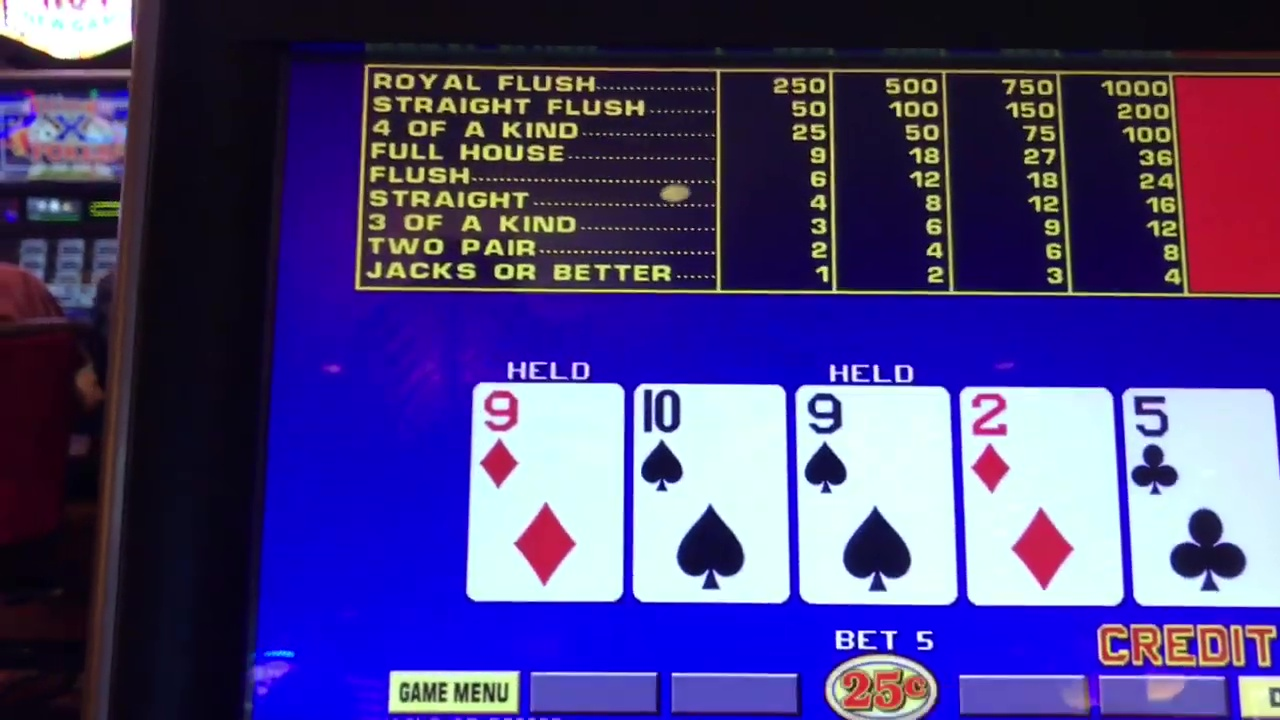C5: (1135, 388, 1271, 507)
D2: (966, 391, 1108, 506)
D9: (474, 381, 613, 502)
S9: (800, 387, 946, 505)
ST: (637, 387, 782, 503)
